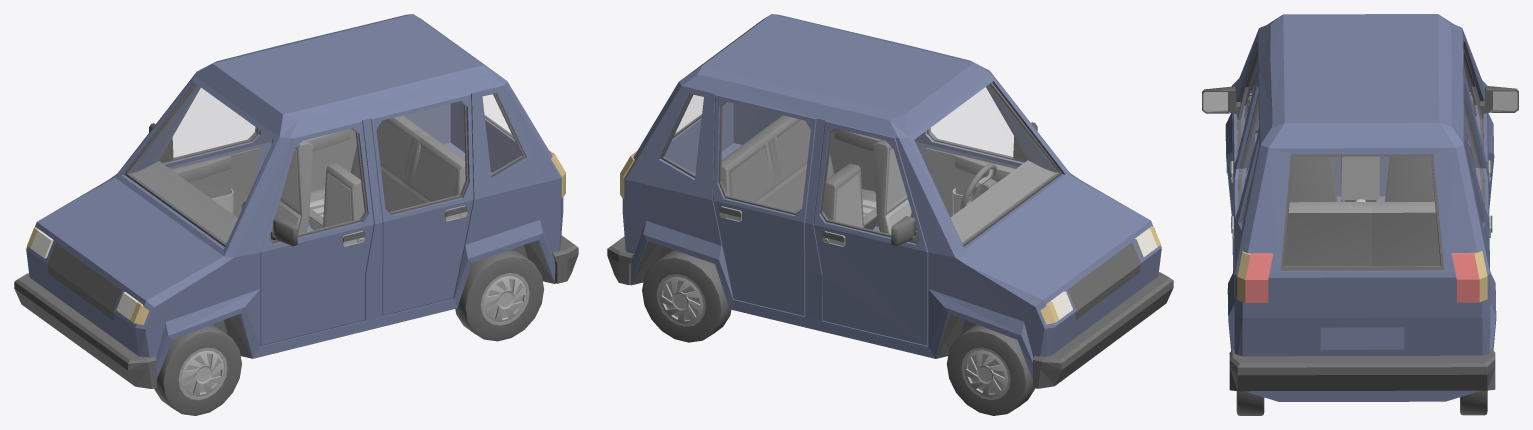
File: car3.glb
3 views of the same model, side by side, from view 1: azimuth 30°, elevation 25°; view 2: azimuth 150°, elevation 25°; view 3: azimuth 270°, elevation 25° (orthographic). The views are drawn at different scales.
Parts seen in each view (by area): view 1: Chassis_Chassis_0, Windows_Windows_0, FL_Door_Chassis_0, Interior_InteriorPanel_0, Chassis_Bumpers_0, RL_Door_Chassis_0, RL_Door_Windows_0, FL_Door_Windows_0, RL_Wheel_Tire_0, FL_Wheel_Tire_0, FR_Door_Windows_0, FR_Door_InteriorPanel_0 (+12 smaller); view 2: Chassis_Chassis_0, Windows_Windows_0, FR_Door_Chassis_0, Interior_InteriorPanel_0, Chassis_Bumpers_0, RR_Door_Chassis_0, RR_Door_Windows_0, FR_Door_Windows_0, RR_Wheel_Tire_0, FR_Wheel_Tire_0, FL_Door_Windows_0, Interior_Handler_0 (+12 smaller); view 3: Chassis_Chassis_0, Windows_Windows_0, Interior_InteriorPanel_0, Chassis_Bumpers_0, Brake_Lights_Brake_lights_0, RL_Door_Chassis_0, FL_Door_Chassis_0, RR_Door_Chassis_0, FL_Door_Bumpers_0, FR_Door_Chassis_0, FR_Door_Bumpers_0, RL_Wheel_Tire_0 (+10 smaller).
Boxes of the visible parts, x1,y1,x2,y2 form: Chassis_Chassis_0: [26, 14, 563, 379]; Windows_Windows_0: [130, 85, 521, 242]; FL_Door_Chassis_0: [260, 120, 373, 345]; Interior_InteriorPanel_0: [132, 115, 465, 242]; Chassis_Bumpers_0: [14, 83, 578, 388]; RL_Door_Chassis_0: [370, 93, 473, 315]; RL_Door_Windows_0: [377, 102, 465, 211]; FL_Door_Windows_0: [277, 129, 364, 234]; RL_Wheel_Tire_0: [455, 249, 544, 341]; FL_Wheel_Tire_0: [154, 325, 241, 415]; FR_Door_Windows_0: [173, 88, 256, 157]; FR_Door_InteriorPanel_0: [171, 147, 260, 217]; Chassis_Chassis_0: [622, 14, 1161, 378]; Windows_Windows_0: [664, 85, 1057, 242]; FR_Door_Chassis_0: [813, 120, 928, 345]; Interior_InteriorPanel_0: [721, 115, 1054, 241]; Chassis_Bumpers_0: [607, 82, 1173, 388]; RR_Door_Chassis_0: [713, 94, 816, 316]; RR_Door_Windows_0: [721, 102, 810, 212]; FR_Door_Windows_0: [823, 129, 910, 234]; RR_Wheel_Tire_0: [642, 250, 731, 342]; FR_Wheel_Tire_0: [947, 324, 1034, 415]; FL_Door_Windows_0: [930, 88, 1013, 156]; Interior_Handler_0: [835, 148, 911, 234]; Chassis_Chassis_0: [1225, 14, 1496, 401]; Windows_Windows_0: [1284, 157, 1440, 266]; Interior_InteriorPanel_0: [1248, 95, 1472, 266]; Chassis_Bumpers_0: [1226, 70, 1495, 391]; Brake_Lights_Brake_lights_0: [1245, 252, 1479, 303]; RL_Door_Chassis_0: [1233, 74, 1260, 270]; FL_Door_Chassis_0: [1232, 31, 1259, 271]; RR_Door_Chassis_0: [1463, 74, 1489, 226]; FL_Door_Bumpers_0: [1202, 48, 1257, 177]; FR_Door_Chassis_0: [1462, 31, 1488, 172]; FR_Door_Bumpers_0: [1463, 48, 1518, 177]; RL_Wheel_Tire_0: [1236, 391, 1264, 415].
Size of the model in its own units: 9.41 by 5.15 by 5.14.
